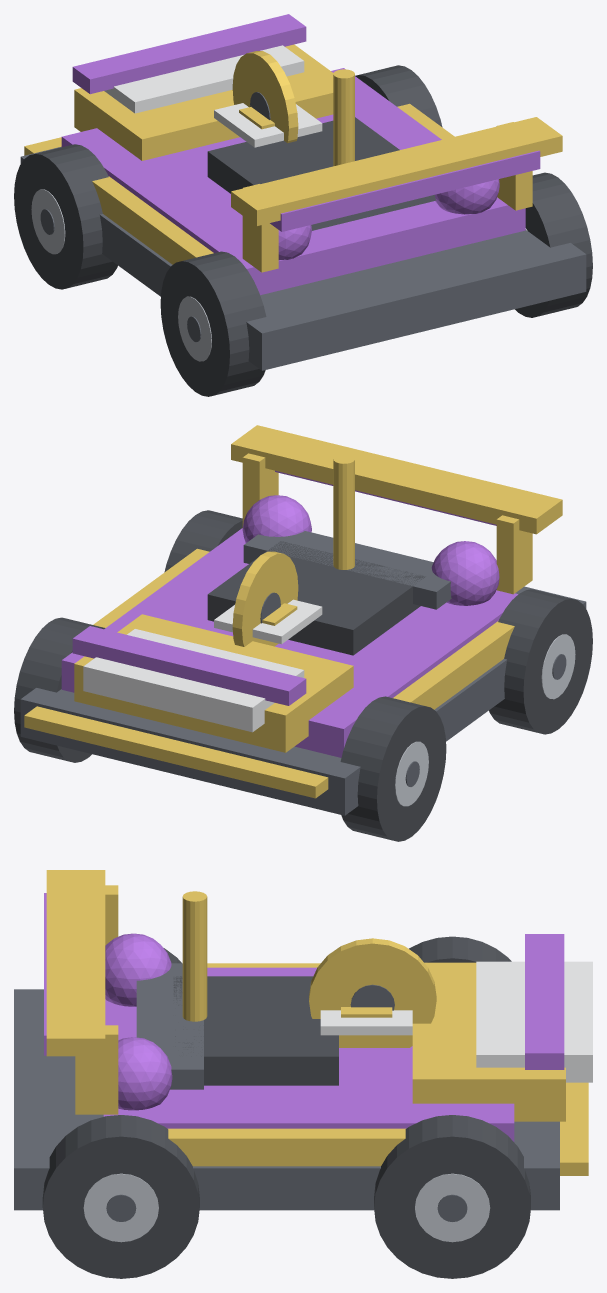
File: drifter.glb
The picture shows the model from 3 angles, top to bottom: view 1: azimuth 30°, elevation 25°; view 2: azimuth 150°, elevation 25°; view 3: azimuth 270°, elevation 25°; orthographic projection. The views are drawn at different scales.
Visible parts, largest first — view 1: part_0, part_1, part_11, part_19, part_16, part_2, part_32, part_4, part_31, part_25, part_3, part_9 (+12 smaller); view 2: part_1, part_0, part_11, part_4, part_16, part_2, part_19, part_3, part_28, part_32, part_5, part_22 (+12 smaller); view 3: part_0, part_1, part_25, part_22, part_4, part_2, part_11, part_3, part_10, part_8, part_32, part_5 (+15 smaller).
Boxes of the visible parts, box(x1,y1,x2,y2) form: part_0: box(20, 146, 586, 370); part_1: box(61, 68, 525, 295); part_11: box(231, 117, 562, 225); part_19: box(160, 251, 266, 396); part_16: box(14, 144, 117, 289); part_2: box(74, 44, 333, 160); part_32: box(72, 14, 306, 94); part_4: box(207, 117, 399, 193); part_31: box(270, 150, 540, 231); part_25: box(515, 172, 592, 317); part_3: box(104, 45, 304, 113); part_9: box(92, 176, 213, 264); part_1: box(61, 528, 518, 757); part_0: box(20, 586, 586, 815); part_11: box(231, 425, 562, 534); part_4: box(207, 541, 425, 655); part_16: box(340, 696, 446, 841); part_2: box(74, 614, 353, 752); part_19: box(489, 589, 592, 734); part_3: box(83, 629, 304, 732); part_28: box(24, 706, 328, 798); part_32: box(72, 626, 306, 705); part_5: box(243, 531, 451, 609); part_22: box(14, 617, 105, 762); part_0: box(14, 989, 559, 1210); part_1: box(103, 967, 514, 1141); part_25: box(42, 1115, 199, 1278); part_22: box(374, 1115, 530, 1278); part_4: box(173, 976, 338, 1085); part_2: box(412, 962, 565, 1121); part_11: box(46, 870, 105, 1056); part_3: box(476, 961, 592, 1082); part_10: box(168, 1128, 405, 1166); part_8: box(309, 938, 436, 1047); part_32: box(525, 934, 564, 1069); part_5: box(136, 963, 203, 1089).
Bounding box in the file's own units: 3.89 × 2.54 × 4.72.
